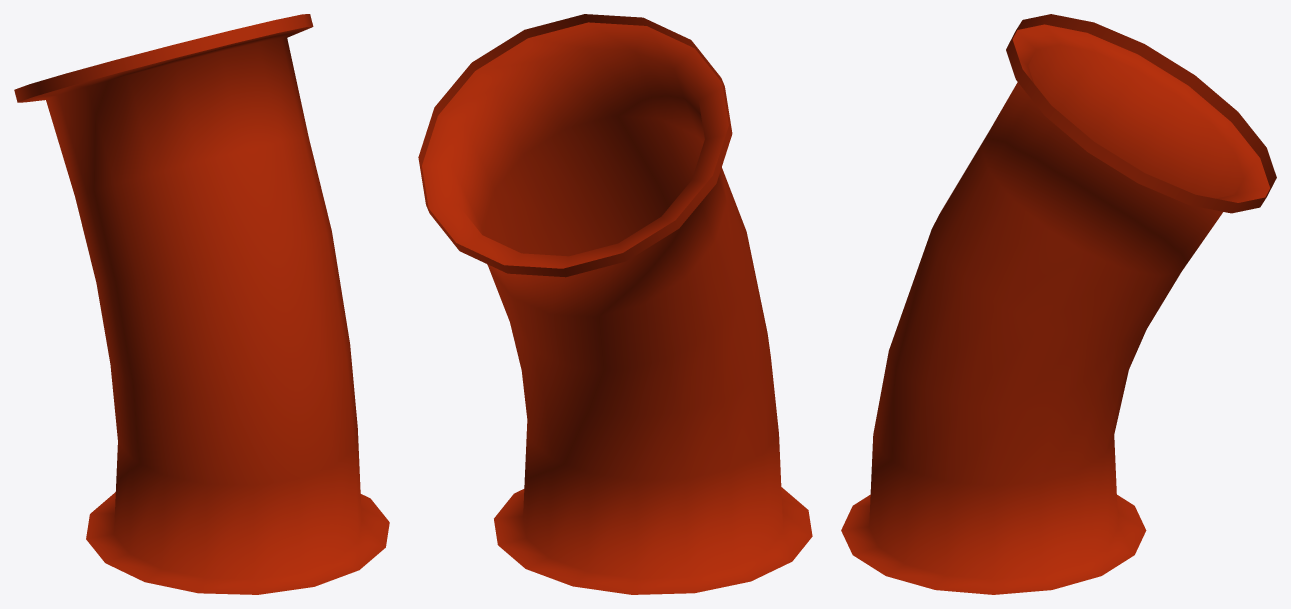
File: sPipeC30_12_LOD0.FBX
3 views of the same model, side by side, from view 1: azimuth 30°, elevation 25°; view 2: azimuth 150°, elevation 25°; view 3: azimuth 270°, elevation 25° (orthographic). The views are drawn at different scales.
Parts seen in each view (by area): view 1: Pipe_up1_012_LOD0; view 2: Pipe_up1_012_LOD0; view 3: Pipe_up1_012_LOD0.
Part boxes in pixels (left/top/right/bottom): Pipe_up1_012_LOD0: left=14, top=14, right=389, bottom=594; Pipe_up1_012_LOD0: left=418, top=14, right=812, bottom=594; Pipe_up1_012_LOD0: left=841, top=14, right=1276, bottom=594.
Bounding box in the file's own units: 19 × 33.72 × 27.12.
